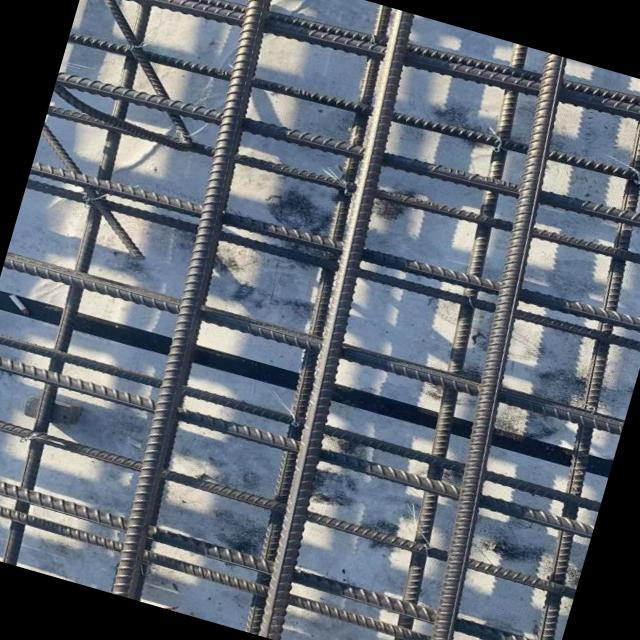ribbed bar: (200, 3, 456, 640), (370, 52, 619, 640), (338, 43, 578, 640), (77, 0, 310, 599), (55, 44, 640, 259), (29, 143, 640, 348), (46, 82, 640, 290), (3, 244, 623, 440), (67, 6, 640, 218), (25, 166, 640, 363), (0, 326, 599, 517), (0, 350, 592, 541), (0, 0, 195, 566), (0, 407, 576, 597), (0, 463, 560, 640), (468, 80, 640, 640), (82, 0, 640, 164), (0, 486, 553, 640)
